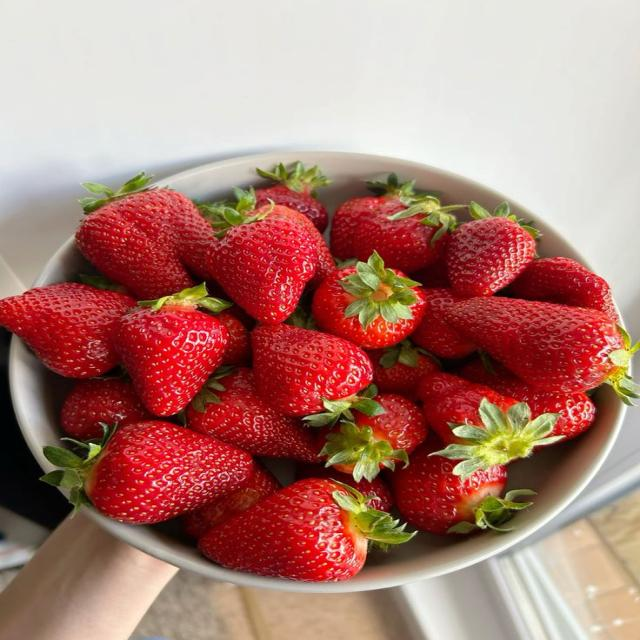strawberry: (199, 479, 413, 581), (42, 421, 253, 523), (447, 297, 639, 403), (76, 172, 214, 298), (114, 285, 229, 416), (208, 190, 318, 324), (419, 374, 562, 476), (392, 439, 533, 534), (0, 283, 135, 378), (187, 368, 318, 462), (456, 359, 595, 439), (252, 324, 372, 416), (312, 252, 426, 348), (331, 173, 439, 259), (320, 395, 426, 482), (447, 202, 538, 296), (354, 196, 461, 273), (183, 460, 281, 538), (510, 258, 619, 322), (60, 378, 153, 440), (267, 205, 336, 288), (269, 207, 336, 289), (256, 162, 331, 232), (296, 464, 393, 511), (411, 288, 476, 358), (368, 340, 439, 401), (216, 308, 251, 365), (410, 260, 450, 287)
